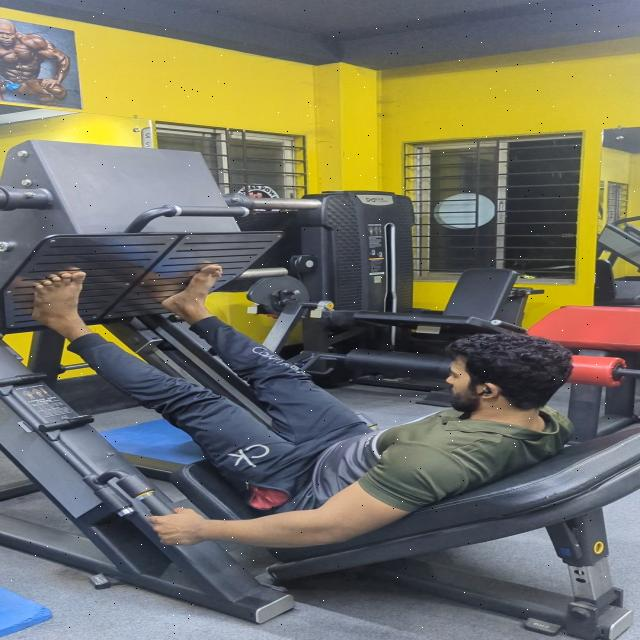Normal_LegPress: (0, 194, 640, 640)
